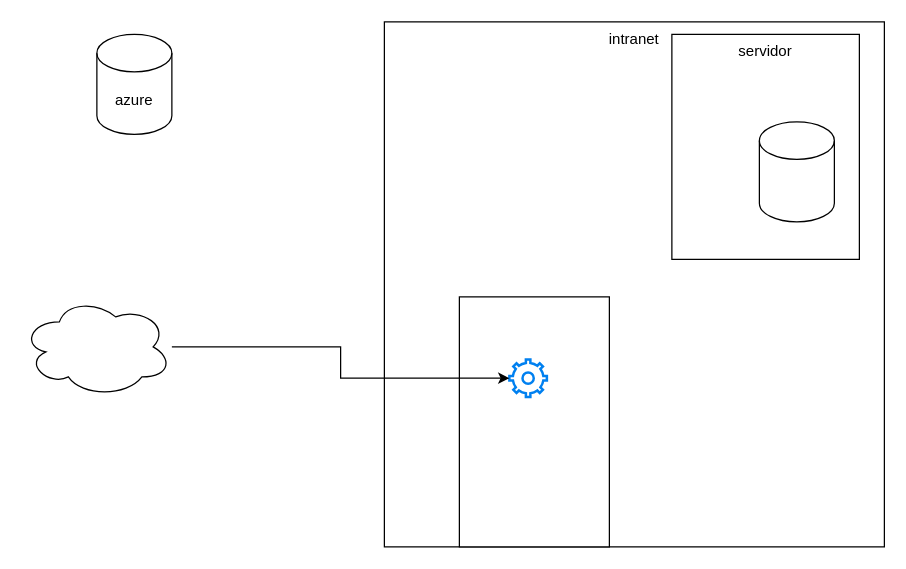
This 906x569 diagram has some shape labels left out. Here are the shapes that lost their labels. From the top down, the box of each, then its label:
(758, 121, 834, 222): servidor sql server
(458, 296, 609, 547): workstation
